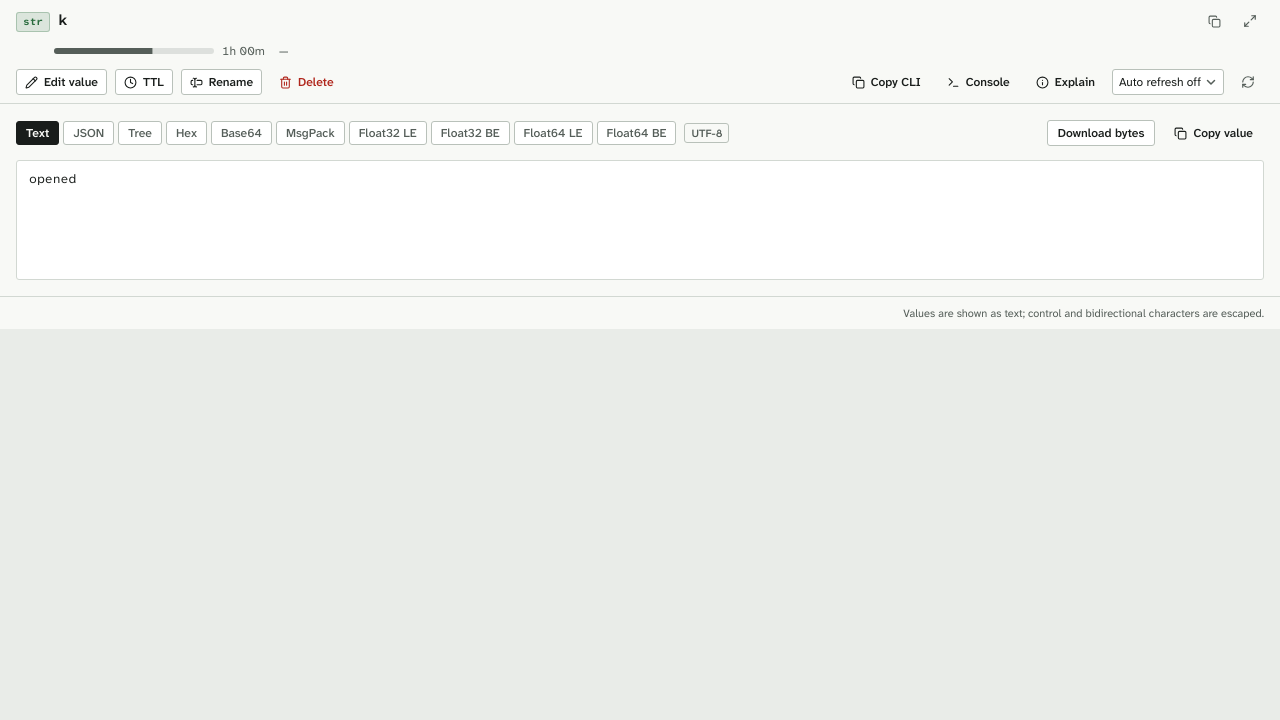
Test: H2: the main editor is bound to the snapshot it opened › every save carries what the editor opened; a 409 shows the current value with Reload and Overwrite anyway
Click the button with test id "key-edit". click: (61, 82)
box: [16, 69, 107, 95]
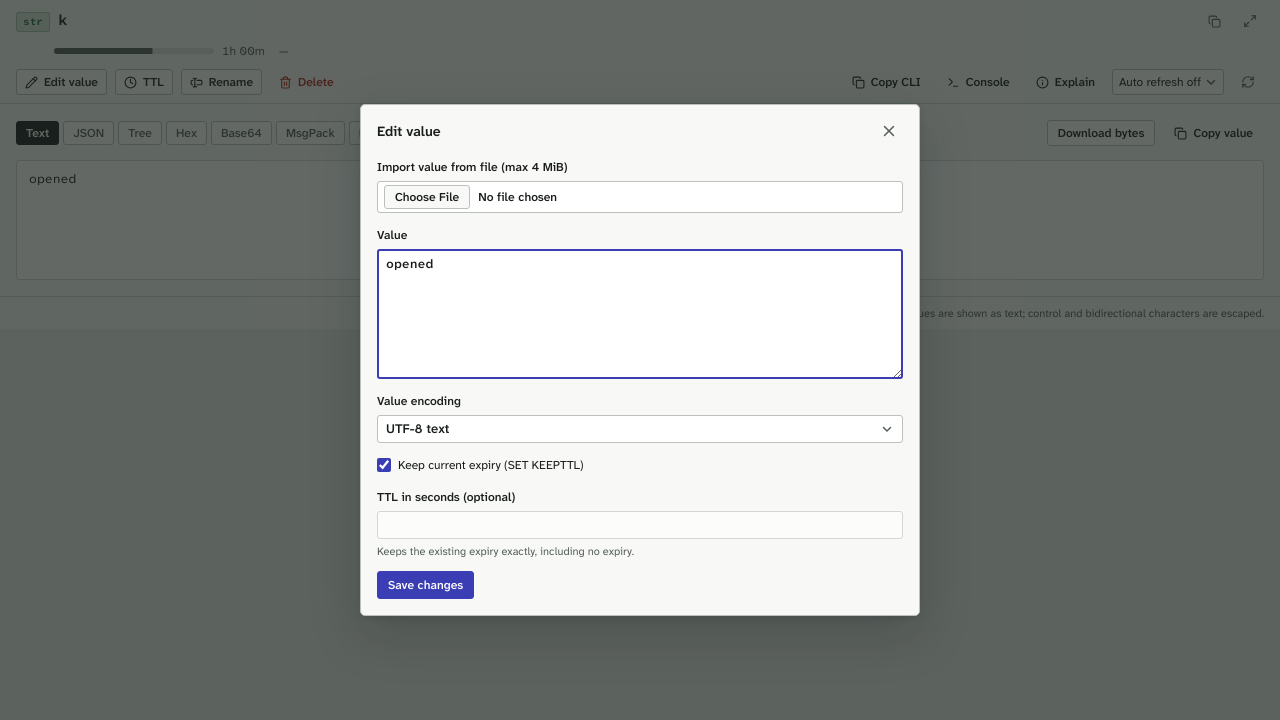
Replace the text in the text box with test id "key-edit-value" with "mine". click: (640, 314)
box: [377, 249, 903, 379]
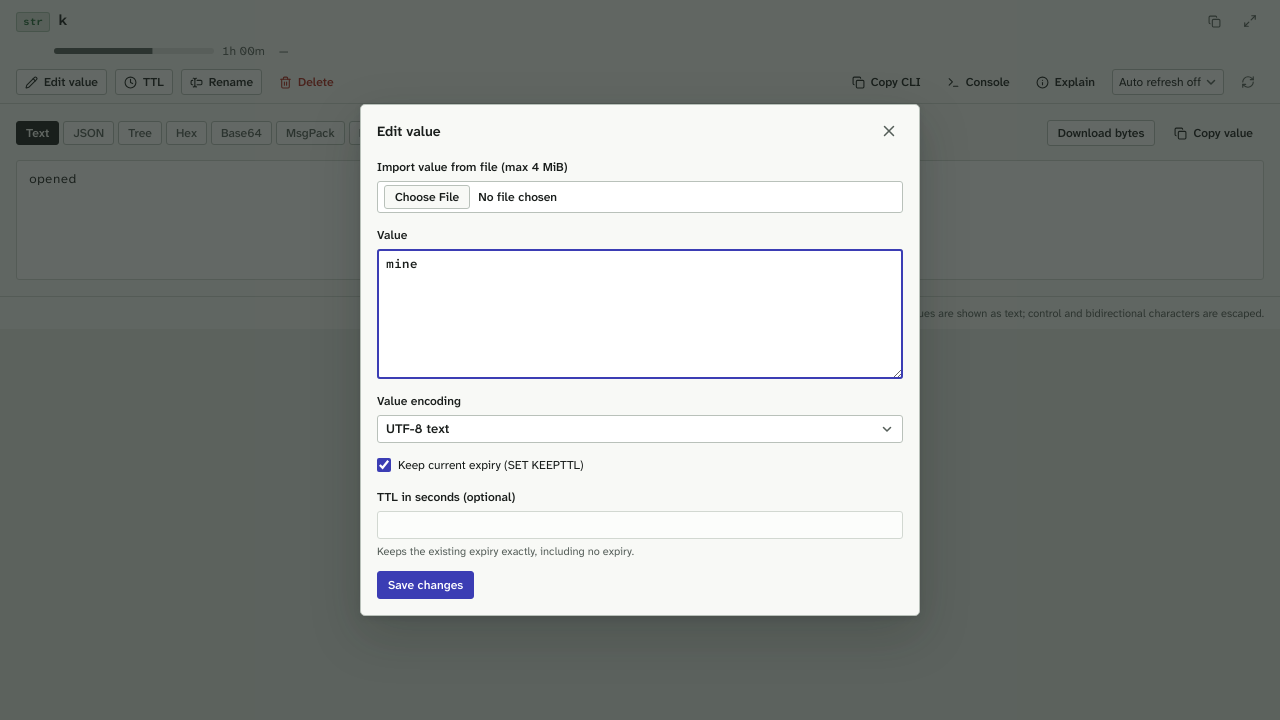
Click the button with test id "key-save". click: (426, 585)
box: [377, 571, 474, 599]
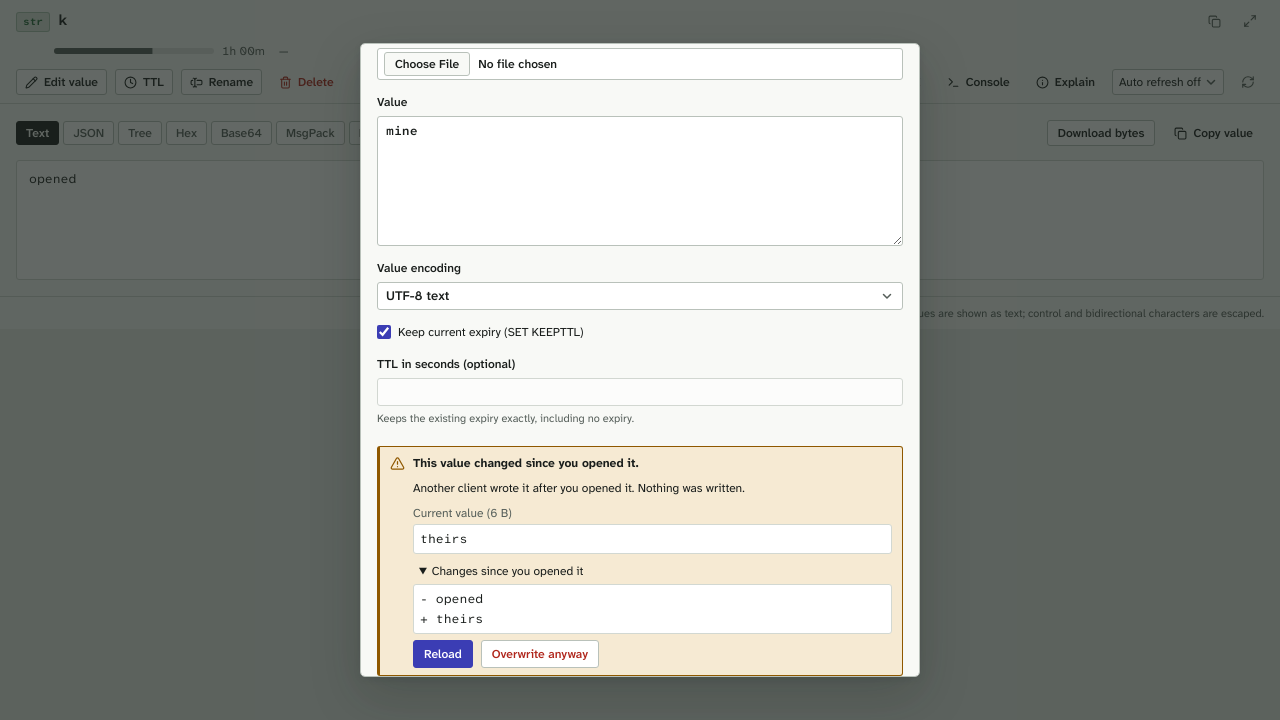
Expected: the text with test id "edit-conflict-current" reads "theirs", [420, 531, 467, 547]
Expected: the text with test id "edit-conflict-diff" shows "- opened", [420, 591, 483, 627]
Expected: the text with test id "edit-conflict-diff" shows "+ theirs", [420, 591, 483, 627]
Click the button with test id "edit-conflict-overwrite". click: (540, 654)
box: [481, 640, 599, 668]
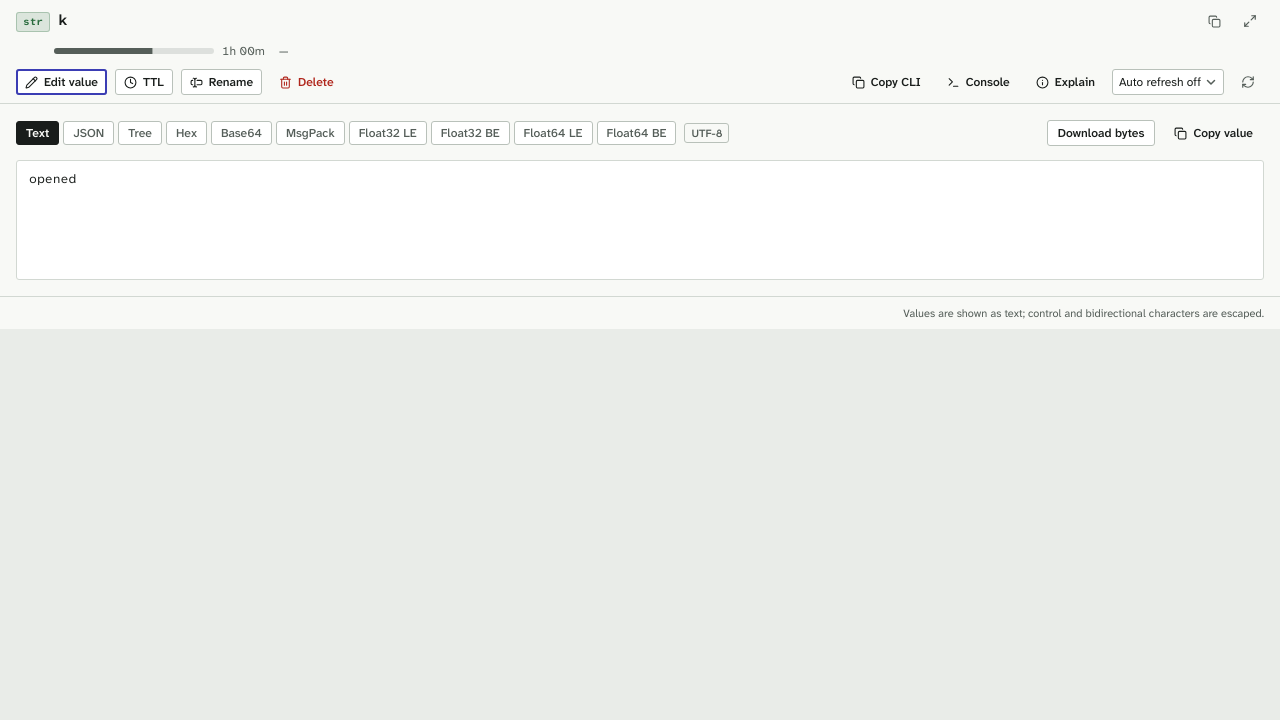
Expected: the dialog with test id "key-editor-dialog" is gone
